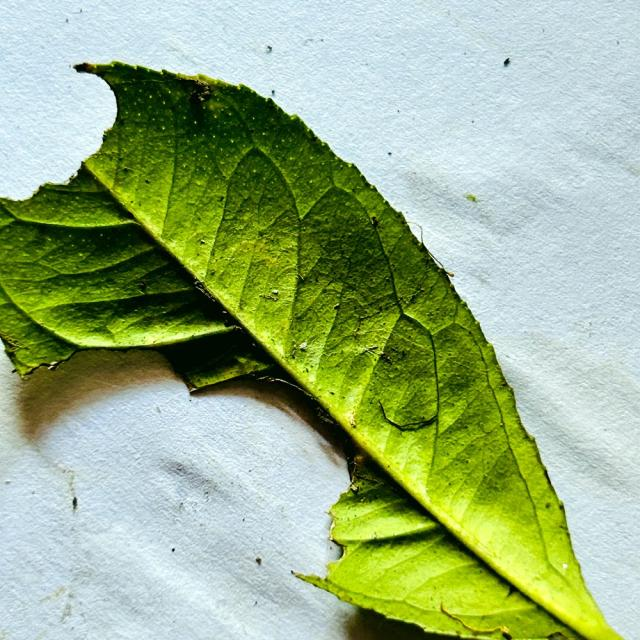Deficiency Leaf: (0, 350, 348, 586), (0, 67, 116, 199)
Lemon: (0, 62, 618, 639)
